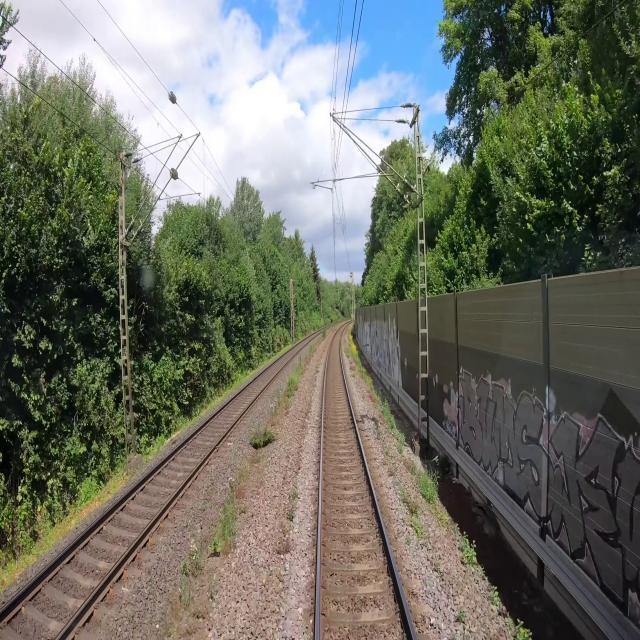Plant: (159, 329, 326, 639), (274, 486, 301, 555)
